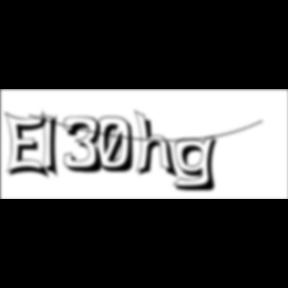0: (98, 115, 142, 174)
3: (64, 116, 110, 176)
E: (4, 110, 54, 182)
g: (173, 134, 225, 194)
h: (135, 108, 182, 182)
l: (42, 108, 66, 182)
